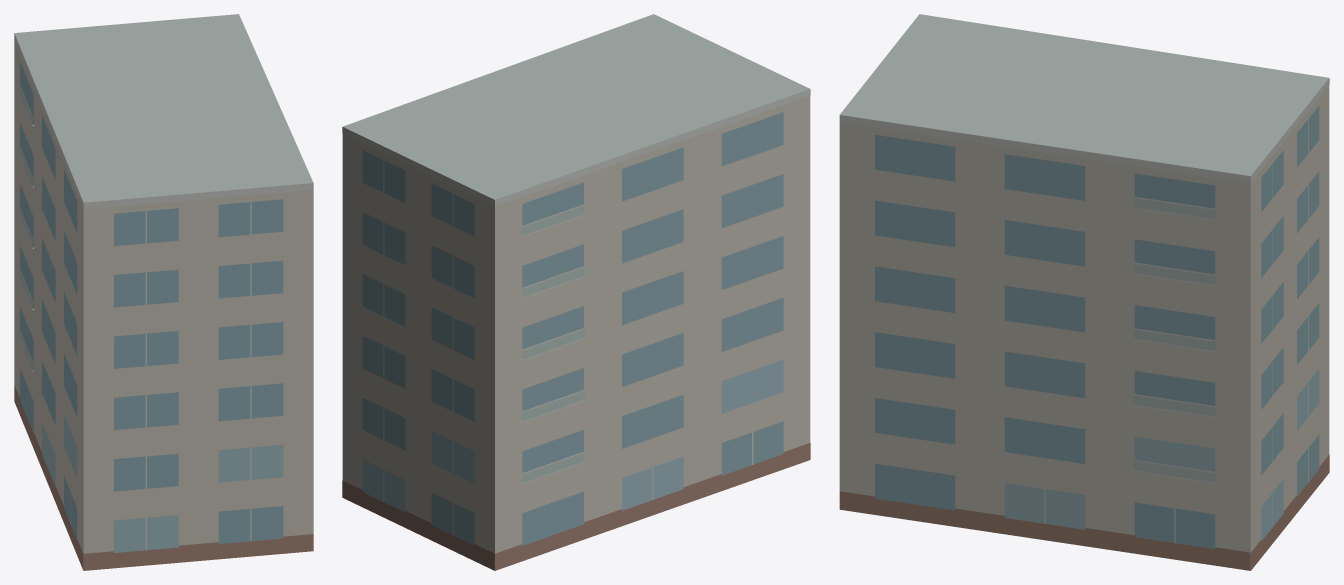
Rendered from survey-upis-32932628.glb.
3 renders of one model, left to right at view 1: azimuth 30°, elevation 25°; view 2: azimuth 150°, elevation 25°; view 3: azimuth 270°, elevation 25°, orthographic. The views are drawn at different scales.
Parts seen in each view (by area): view 1: survey-upis-32932628.tmp; view 2: survey-upis-32932628.tmp; view 3: survey-upis-32932628.tmp.
Boxes of the visible parts, x1,y1,x2,y2 form: survey-upis-32932628.tmp: (14, 14, 313, 570); survey-upis-32932628.tmp: (342, 14, 810, 570); survey-upis-32932628.tmp: (839, 14, 1329, 570).
Size of the model in its own units: 11.86 by 13.45 by 15.14.
